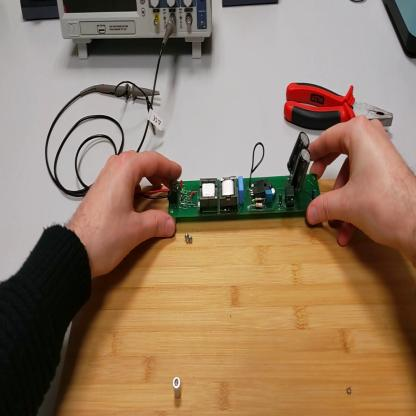hand: (306, 114, 414, 256), (76, 149, 184, 279)
high voltage board: (139, 130, 324, 227)
oscilloscope: (57, 2, 213, 61)
oscilloscope probe tip: (92, 81, 161, 104)
pliers: (282, 78, 394, 137)
socket: (22, 3, 61, 23)
welder station: (382, 3, 416, 58)
working area: (52, 178, 416, 416)
